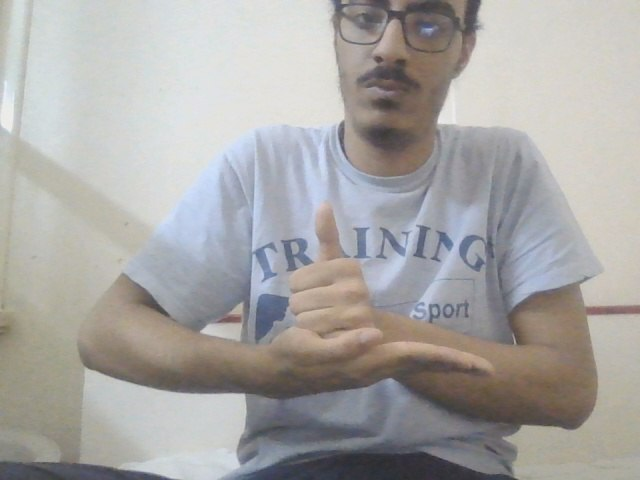Help: (263, 200, 496, 415)
